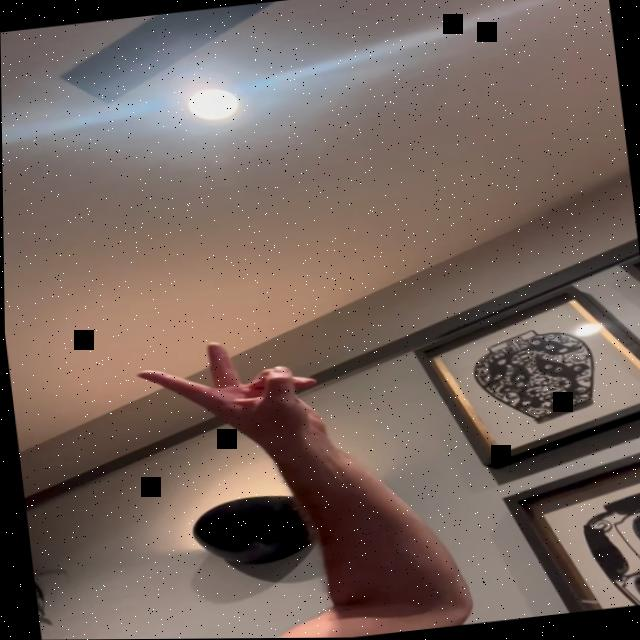Scissors: (131, 330, 327, 473)
